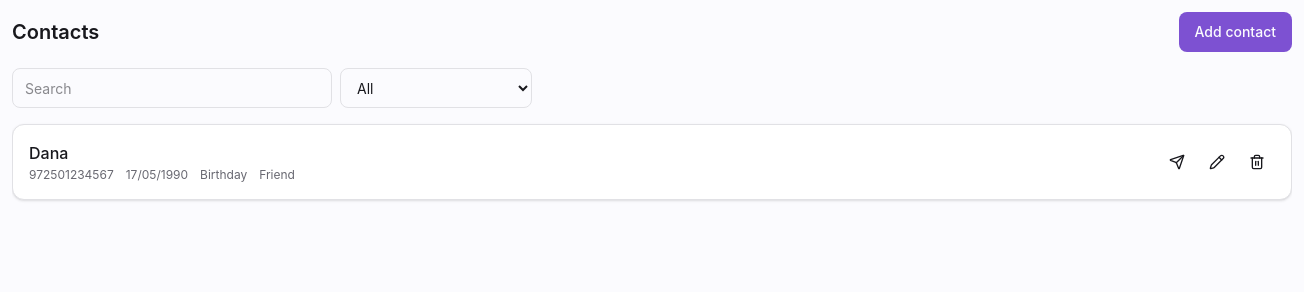
send now › reports a failure instead of silently doing nothing
Expected: the text "Dana" is shown, left=29, top=141, right=68, bottom=165
Click the button named "Send now": coordinates (1177, 162) left=1159, top=144, right=1195, bottom=180
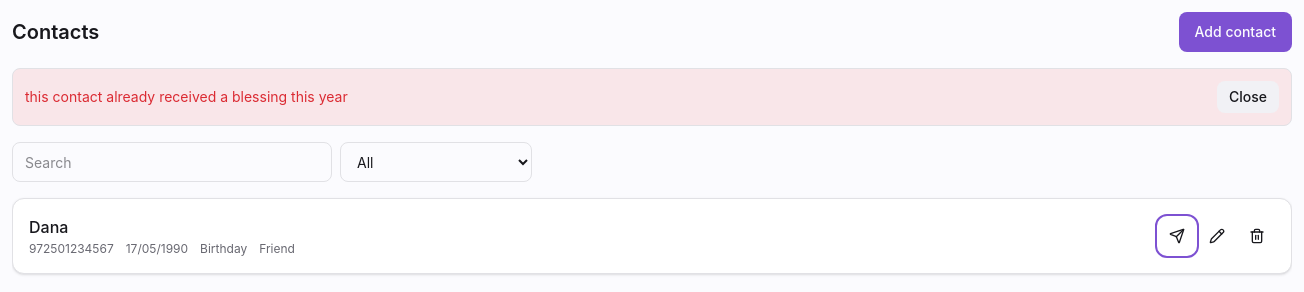
Expected: the text "this contact already received a blessing this year" is shown, left=25, top=88, right=348, bottom=105
